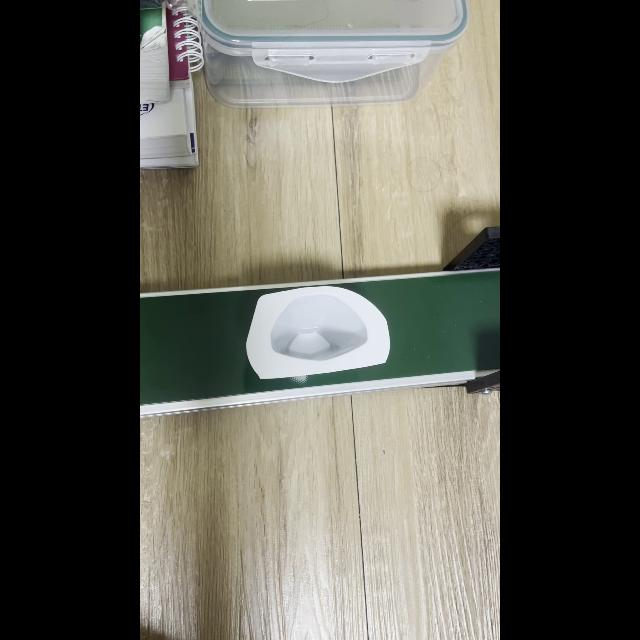clean: (246, 285, 390, 379)
